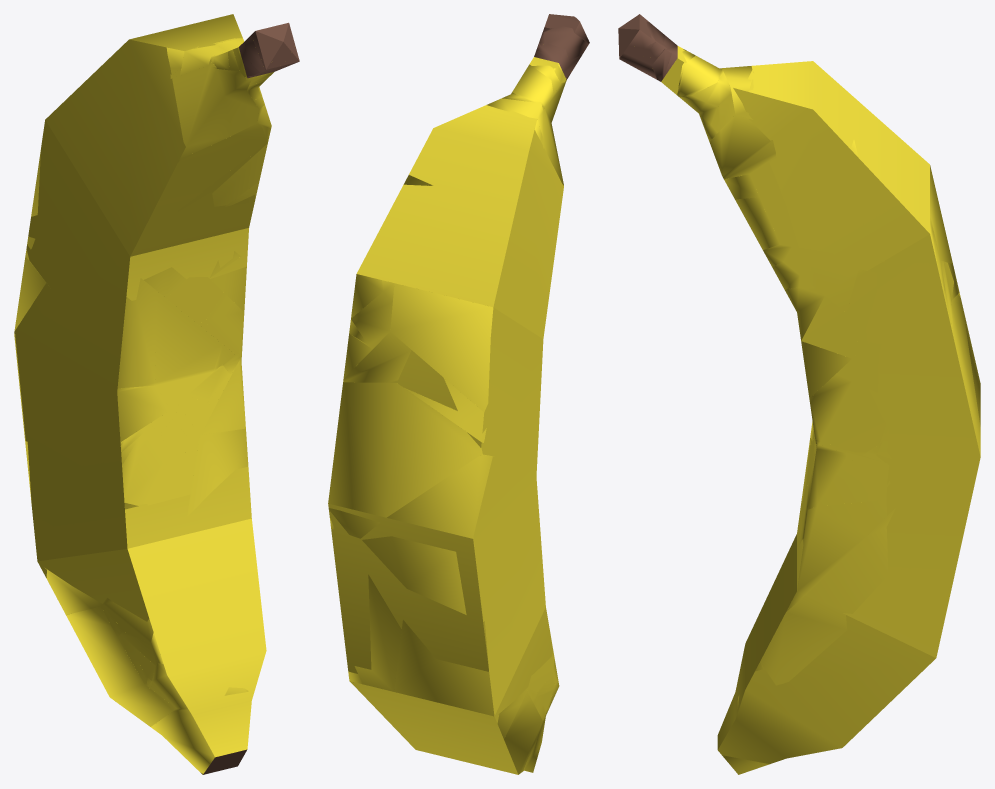
Rendered from banana.glb.
3 renders of one model, left to right at view 1: azimuth 30°, elevation 25°; view 2: azimuth 150°, elevation 25°; view 3: azimuth 270°, elevation 25°, orthographic. The views are drawn at different scales.
Visible parts, largest first — view 1: origin, pasted__pCube11 group_cell.009, pasted__pCube11 group_cell.013_cell.005, pasted__pCube11 group_cell.019, pasted__pCube11 group_cell.023_cell.007, pasted__pCube11 group_cell.013_cell.006, pasted__pCube11 group_cell.020_cell.001, pasted__pCube11 group_cell.020_cell_cell.002, pasted__pCube11 group_cell.036, pasted__pCube11 group_cell.013_cell.001, pasted__pCube11 group_cell.023_cell.001, pasted__pCube11 group_cell.020_cell.003 (+15 smaller); view 2: origin, pasted__pCube11 group_cell.012_cell.003, pasted__pCube11 group_cell.014, pasted__pCube11 group_cell.027, pasted__pCube11 group_cell.017, pasted__pCube11 group_cell.011, pasted__pCube11 group_cell.012_cell.007, pasted__pCube11 group_cell.019, pasted__pCube11 group_cell.012_cell.004, pasted__pCube11 group_cell.025_cell.003, pasted__pCube11 group_cell.004_cell.006, pasted__pCube11 group_cell.009 (+5 smaller); view 3: origin, pasted__pCube11 group_cell.011, pasted__pCube11 group_cell.020_cell.001, pasted__pCube11 group_cell.012_cell.001_cell, pasted__pCube11 group_cell.032, pasted__pCube11 group_cell.022_cell, pasted__pCube11 group_cell.020_cell.004, pasted__pCube11 group_cell.031, pasted__pCube11 group_cell.022_cell.001_cell.007, pasted__pCube11 group_cell.012_cell.003, pasted__pCube11 group_cell.022_cell.004, pasted__pCube11 group_cell.022_cell.001_cell.003 (+10 smaller).
Boxes of the visible parts, box(x1,y1,x2,y2) form: origin: box(14, 14, 288, 774); pasted__pCube11 group_cell.009: box(172, 65, 259, 159); pasted__pCube11 group_cell.013_cell.005: box(155, 291, 222, 408); pasted__pCube11 group_cell.019: box(66, 606, 176, 726); pasted__pCube11 group_cell.023_cell.007: box(159, 123, 267, 200); pasted__pCube11 group_cell.013_cell.006: box(117, 278, 157, 388); pasted__pCube11 group_cell.020_cell.001: box(187, 428, 248, 516); pasted__pCube11 group_cell.020_cell_cell.002: box(122, 426, 170, 505); pasted__pCube11 group_cell.036: box(151, 687, 248, 773); pasted__pCube11 group_cell.013_cell.001: box(117, 385, 170, 441); pasted__pCube11 group_cell.023_cell.001: box(178, 143, 267, 211); pasted__pCube11 group_cell.020_cell.003: box(201, 357, 245, 434); origin: box(328, 14, 579, 774); pasted__pCube11 group_cell.012_cell.003: box(328, 382, 493, 538); pasted__pCube11 group_cell.014: box(362, 455, 492, 621); pasted__pCube11 group_cell.027: box(390, 283, 493, 412); pasted__pCube11 group_cell.017: box(394, 620, 527, 738); pasted__pCube11 group_cell.011: box(354, 574, 401, 691); pasted__pCube11 group_cell.012_cell.007: box(343, 331, 411, 382); pasted__pCube11 group_cell.019: box(504, 691, 542, 774); pasted__pCube11 group_cell.012_cell.004: box(402, 377, 486, 442); pasted__pCube11 group_cell.025_cell.003: box(351, 291, 392, 349); pasted__pCube11 group_cell.004_cell.006: box(512, 64, 553, 106); pasted__pCube11 group_cell.009: box(543, 82, 565, 185); origin: box(619, 14, 980, 763); pasted__pCube11 group_cell.011: box(760, 494, 895, 685); pasted__pCube11 group_cell.020_cell.001: box(786, 486, 886, 611); pasted__pCube11 group_cell.012_cell.001_cell: box(809, 374, 886, 454); pasted__pCube11 group_cell.032: box(709, 115, 776, 179); pasted__pCube11 group_cell.022_cell: box(783, 246, 857, 312); pasted__pCube11 group_cell.020_cell.004: box(818, 457, 886, 506); pasted__pCube11 group_cell.031: box(750, 140, 884, 262); pasted__pCube11 group_cell.022_cell.001_cell.007: box(785, 285, 845, 340); pasted__pCube11 group_cell.012_cell.003: box(951, 294, 980, 456); pasted__pCube11 group_cell.022_cell.004: box(846, 269, 876, 349); pasted__pCube11 group_cell.022_cell.001_cell.003: box(801, 341, 851, 398).
Bounding box in the file's own units: 20.76 × 97.95 × 43.17.
